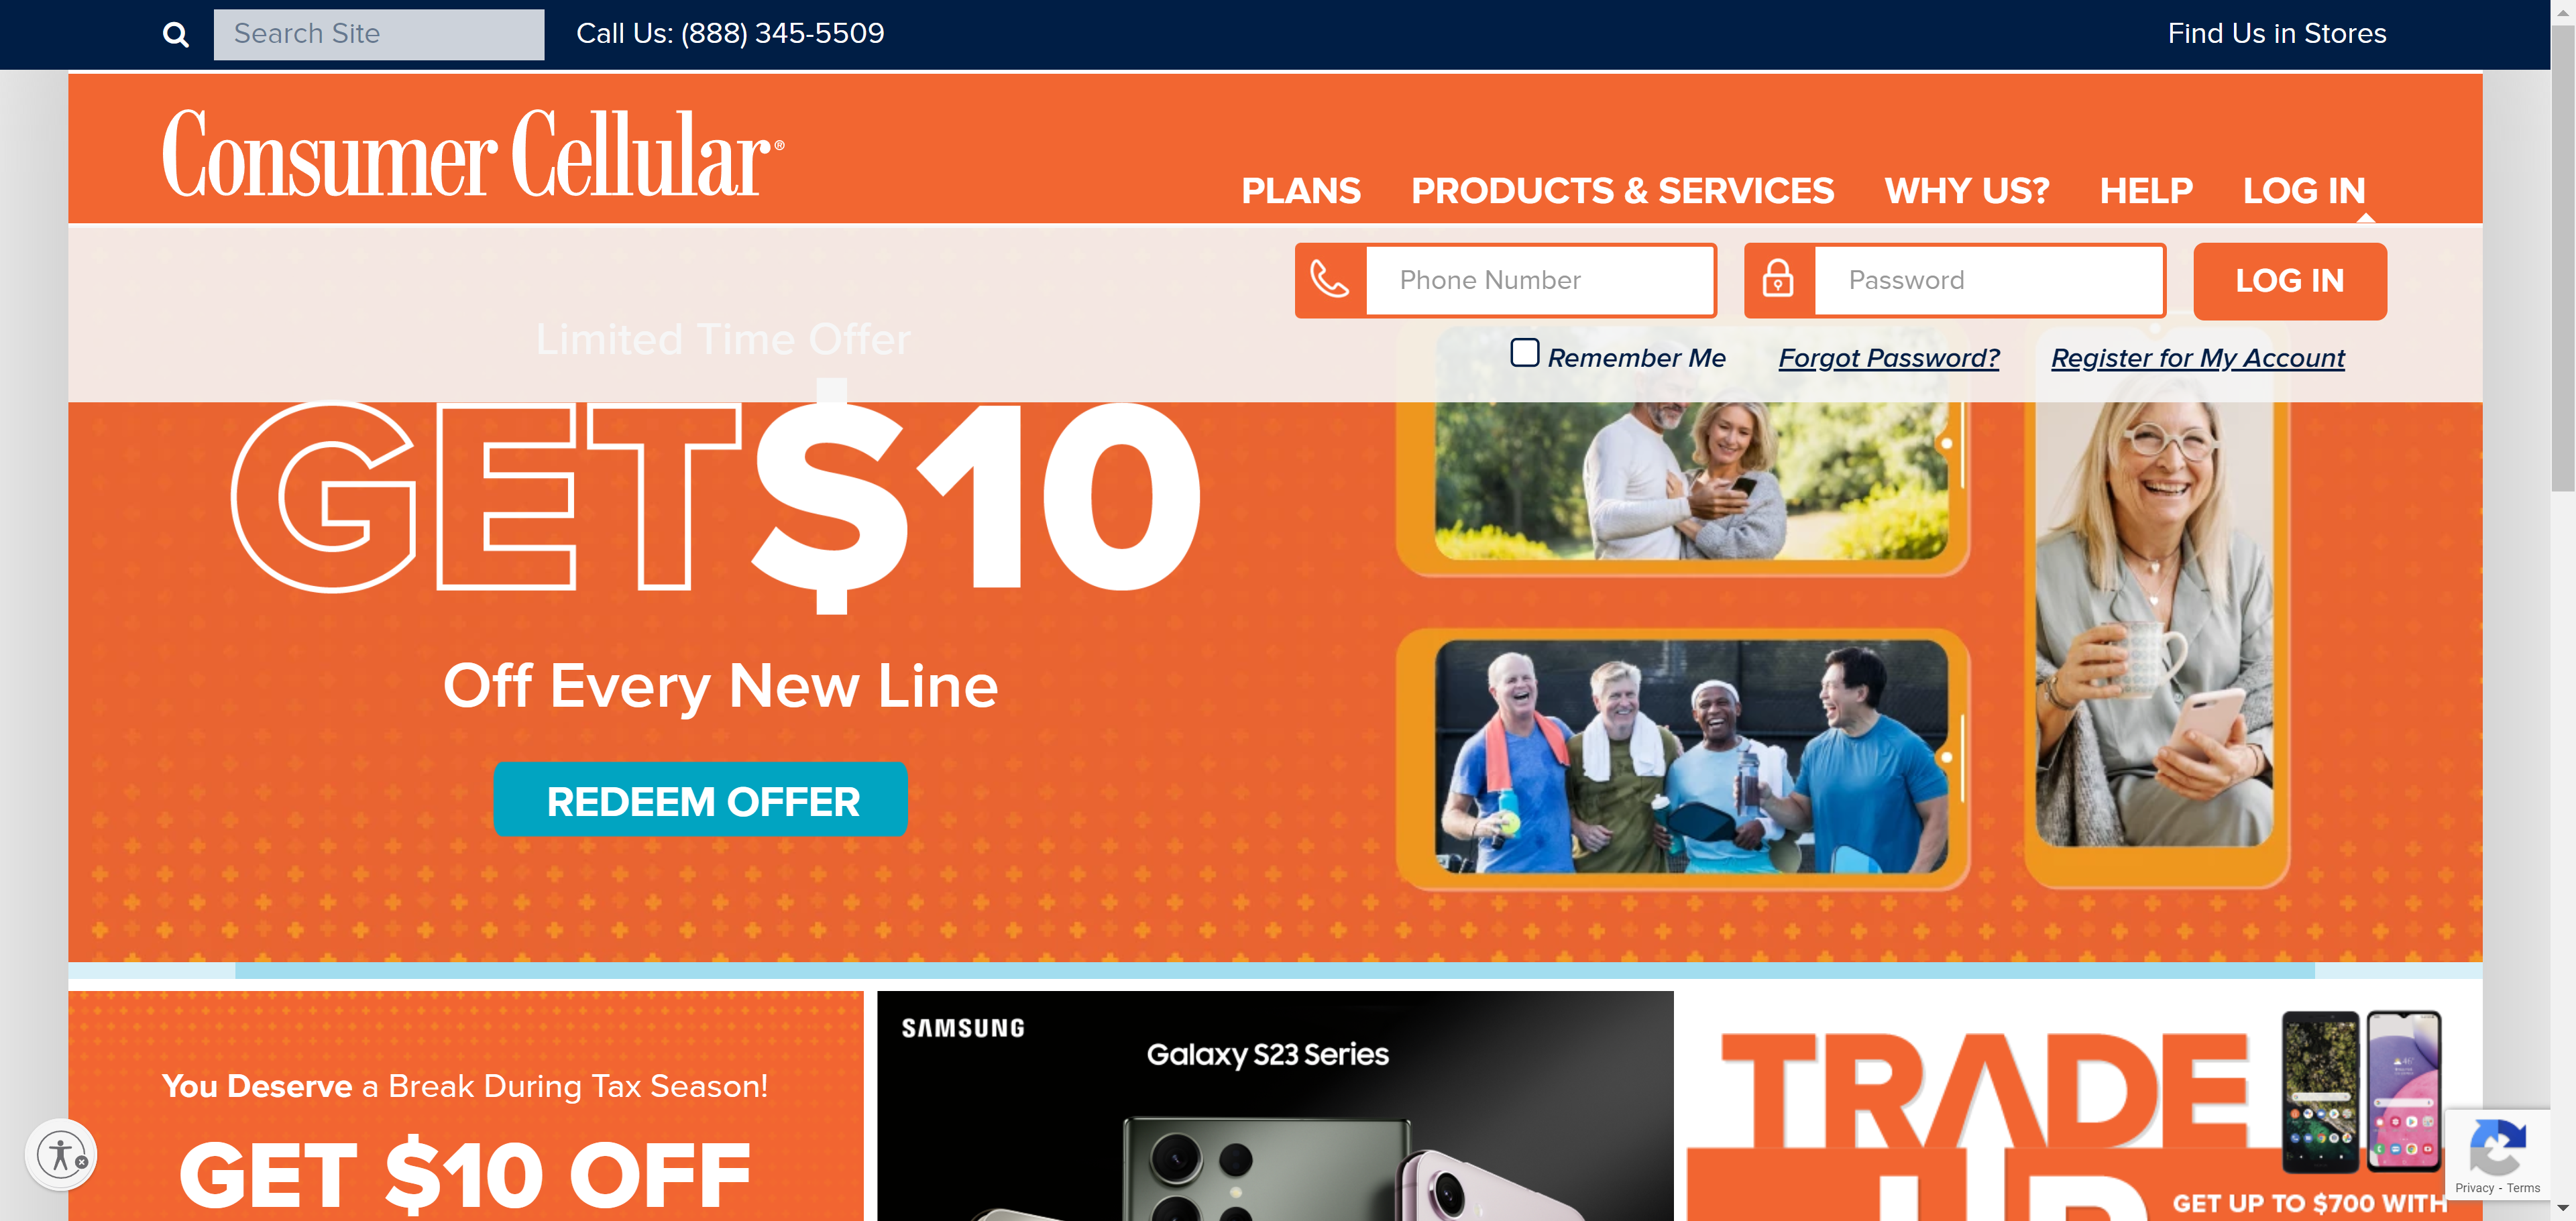login_button: (2193, 243, 2387, 320)
login_form: (1290, 235, 2394, 329)
